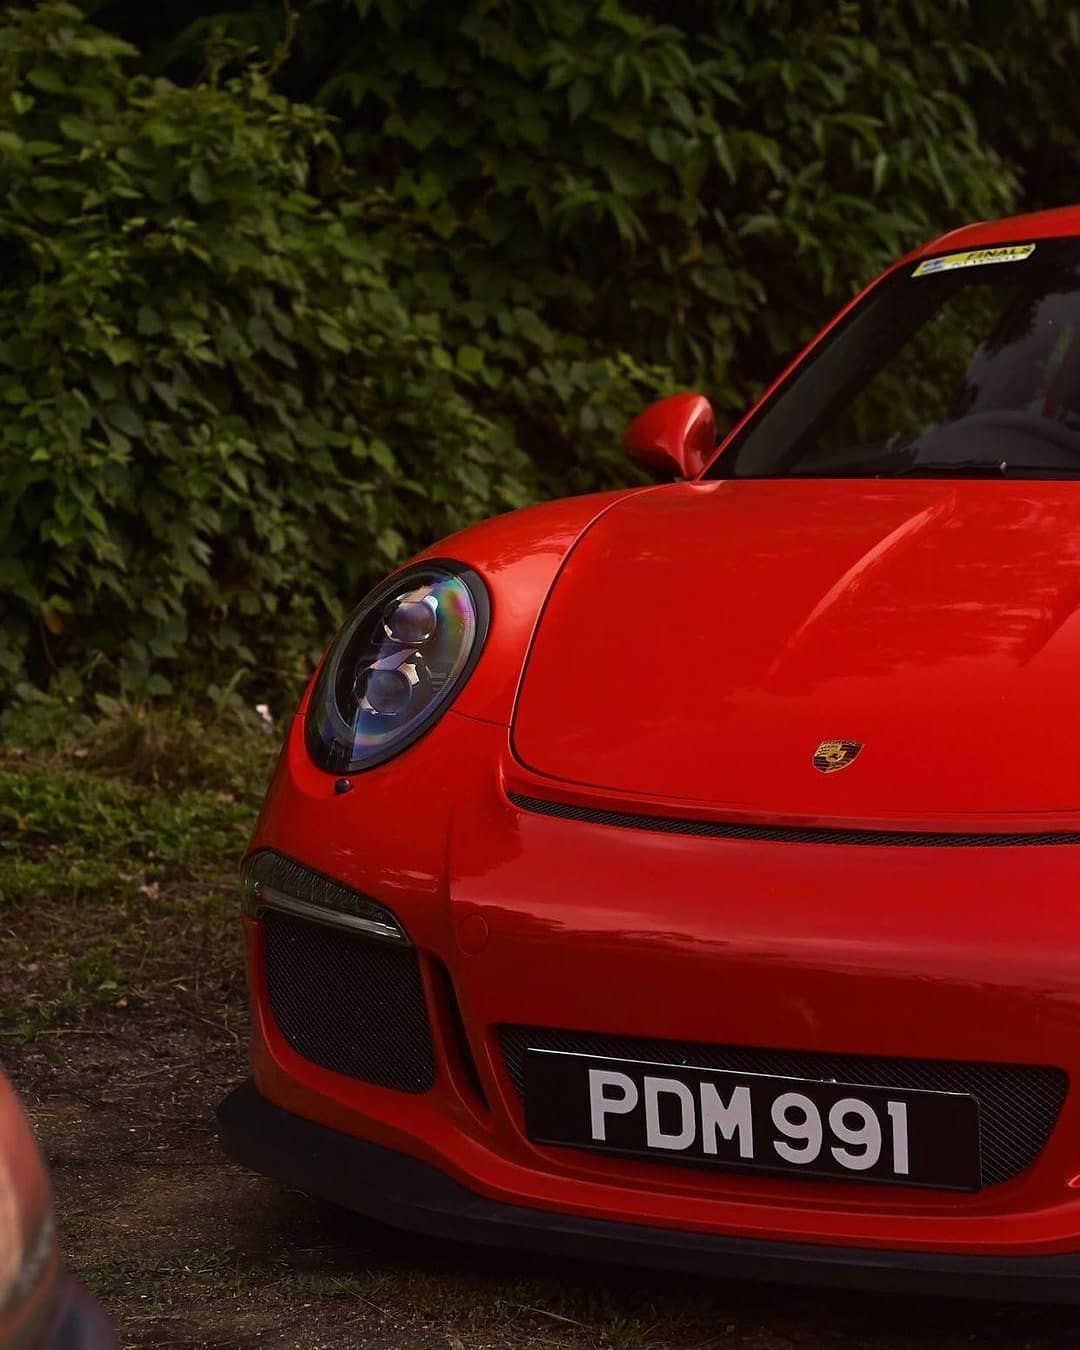License-Plate: (533, 1046, 977, 1145)
